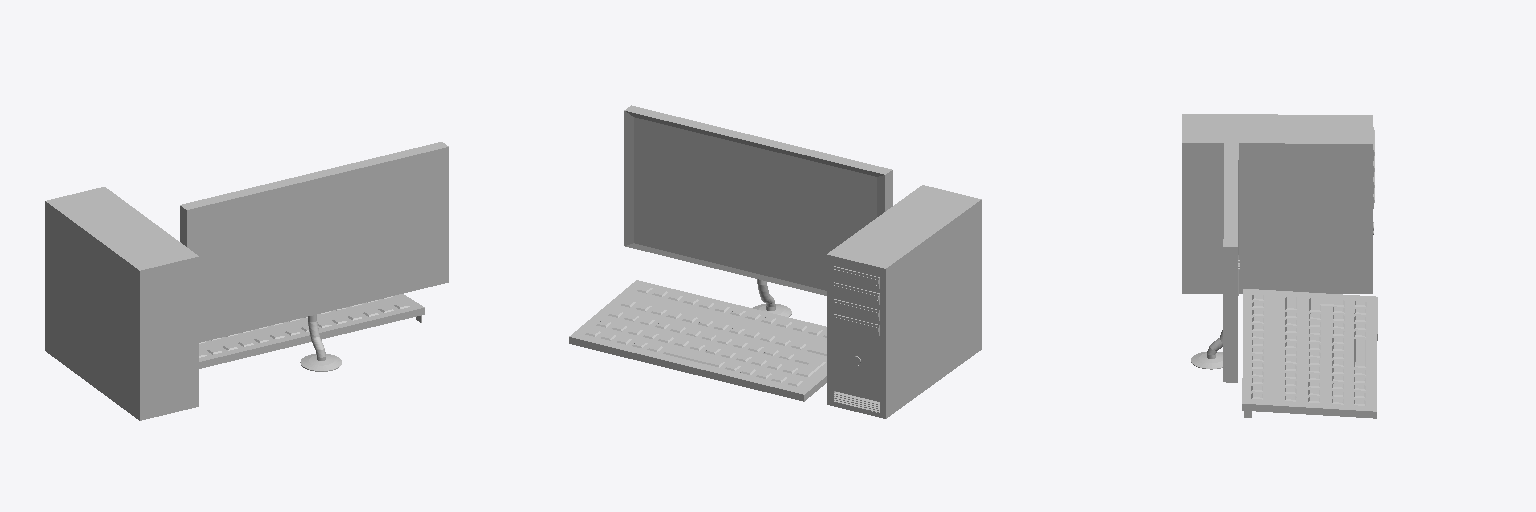
File: computerRotated.obj
3 renders of one model, left to right at view 1: azimuth 30°, elevation 25°; view 2: azimuth 150°, elevation 25°; view 3: azimuth 270°, elevation 25°, orthographic.
Parts seen in each view (by area): view 1: Cylinder.006, Cube.002, Cube.003, Cylinder, Cube.000; view 2: Cylinder.006, Cube.002, Cube.003, Cube.000, Cylinder; view 3: Cube.002, Cube.003, Cube.000, Cylinder.006, Cylinder.
Boxes of the visible parts, <box> form: Cylinder.006: <box>180,142,448,342</box>; Cube.002: <box>45,187,198,420</box>; Cube.003: <box>199,294,424,368</box>; Cylinder: <box>300,315,341,371</box>; Cube.000: <box>199,296,409,357</box>; Cylinder.006: <box>624,105,892,295</box>; Cube.002: <box>827,185,981,418</box>; Cube.003: <box>569,280,826,401</box>; Cube.000: <box>585,286,826,386</box>; Cylinder: <box>753,279,791,316</box>; Cube.002: <box>1182,114,1374,293</box>; Cube.003: <box>1242,289,1377,418</box>; Cube.000: <box>1251,295,1366,405</box>; Cylinder.006: <box>1223,119,1239,382</box>; Cylinder: <box>1191,330,1222,369</box>.
Size of the model in its own units: 1.55 by 0.807 by 0.7982.